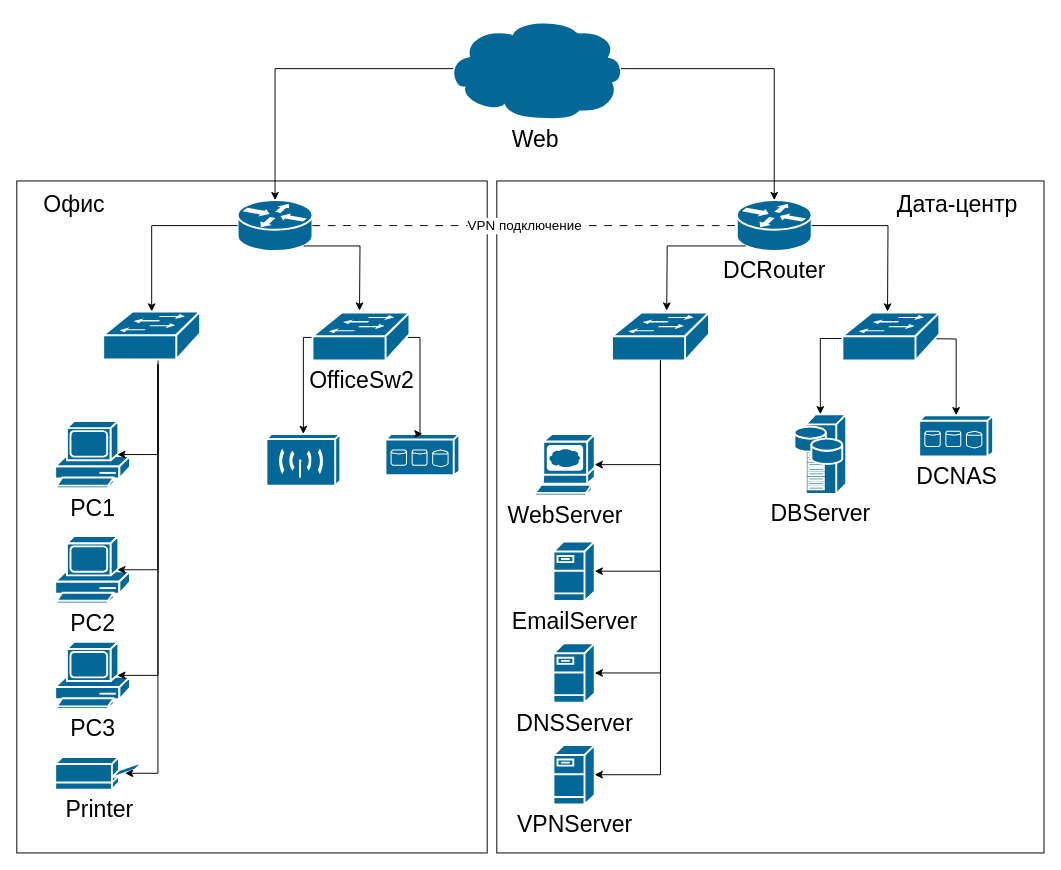
Image size: 1061x870. Some labels were removed from this diagram. Each missing label, with the box of its shape:
DCSw1: (611, 311, 709, 361)
DCSw2: (841, 311, 940, 361)
OfficeNAS: (384, 432, 460, 476)
OfficePoint: (265, 432, 341, 486)
OfficeRouter: (236, 199, 313, 252)
OfficeSw1: (102, 310, 201, 360)
